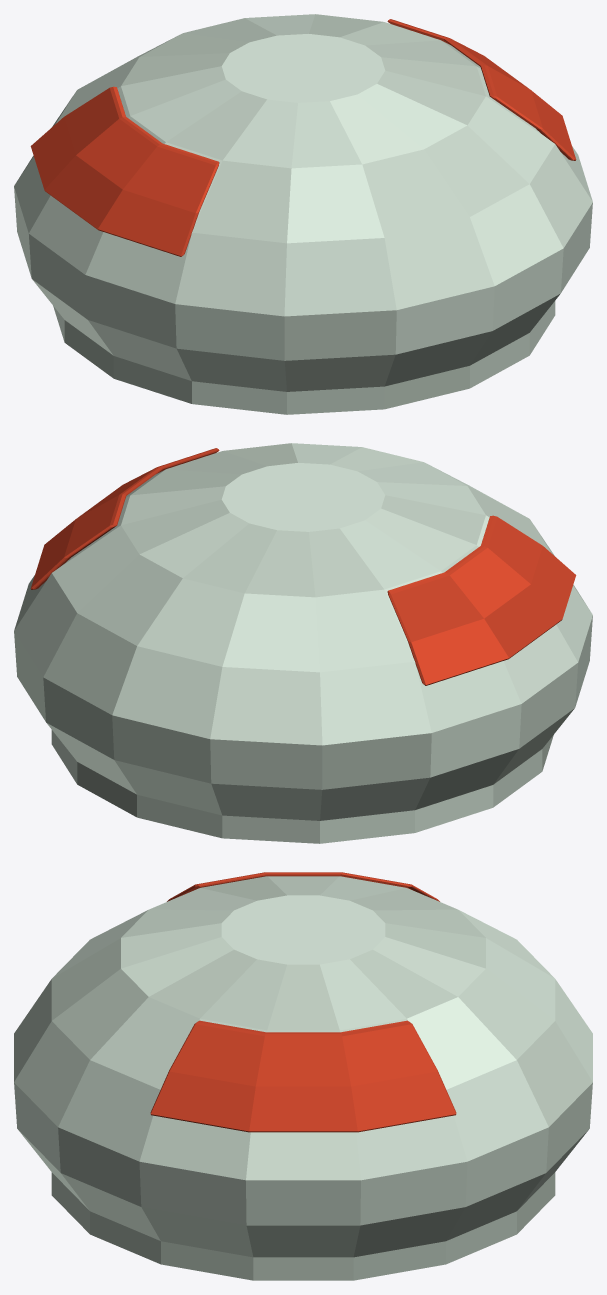
Rendered from ER_SplitDomeCap.fbx.
The picture shows the model from 3 angles, top to bottom: view 1: azimuth 30°, elevation 25°; view 2: azimuth 150°, elevation 25°; view 3: azimuth 270°, elevation 25°; orthographic projection.
Parts seen in each view (by area): view 1: ER_SplitDomeCap; view 2: ER_SplitDomeCap; view 3: ER_SplitDomeCap.
Part boxes in pixels (<box>): ER_SplitDomeCap: <box>14,14,592,414</box>; ER_SplitDomeCap: <box>14,443,592,843</box>; ER_SplitDomeCap: <box>14,872,592,1280</box>.
Size of the model in its own units: 0.9023 by 0.42 by 0.9023.
2 materials, 2 textured.
